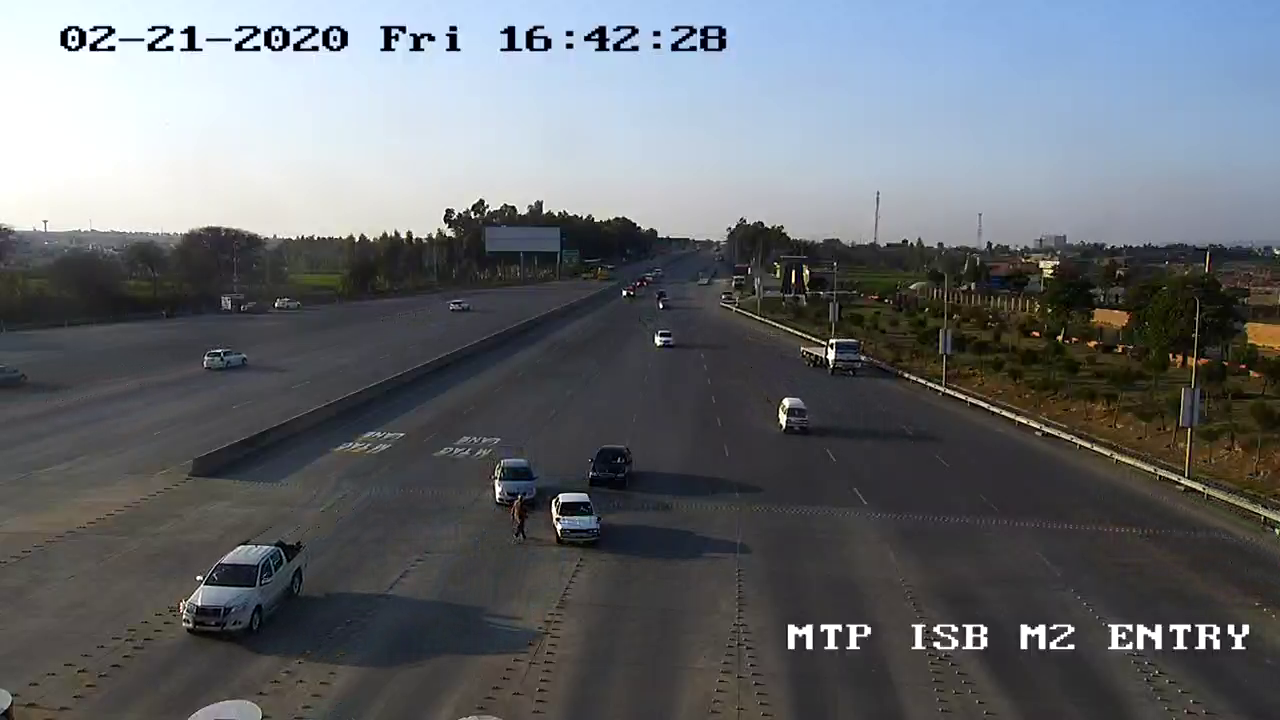f1: (160, 529, 323, 648), (545, 486, 604, 544)
